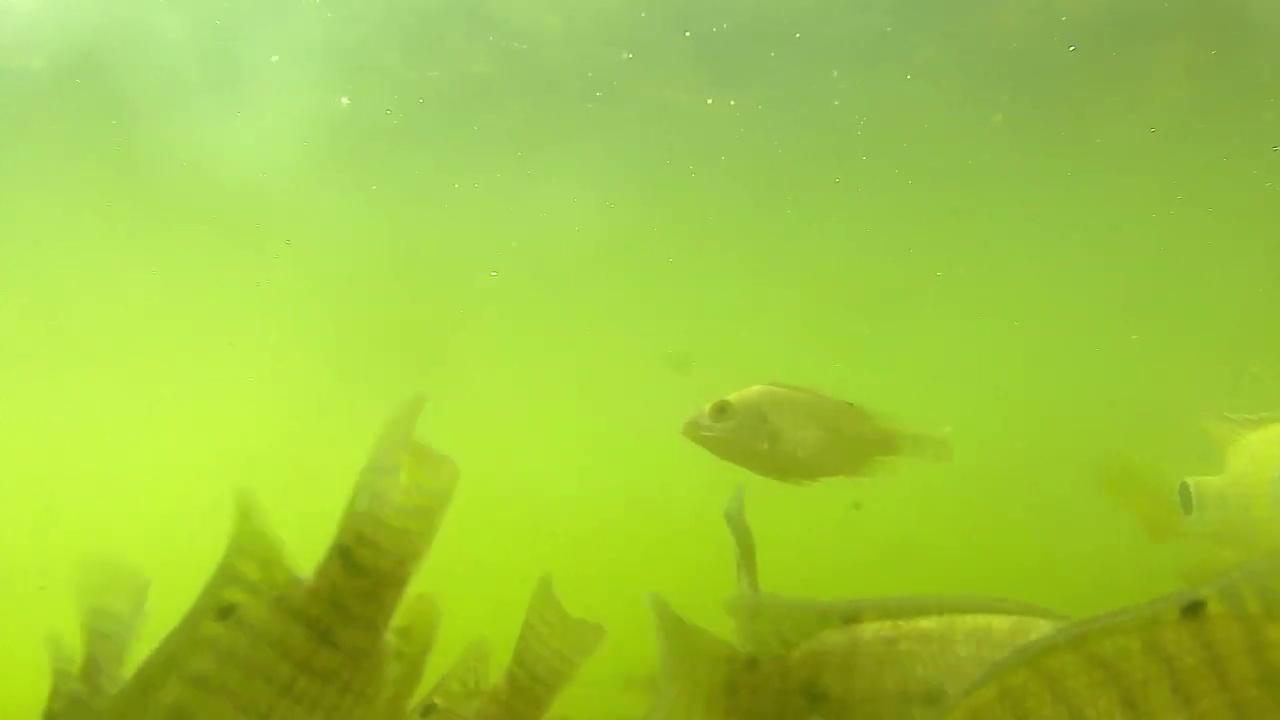Tilapia: (685, 384, 940, 486)
